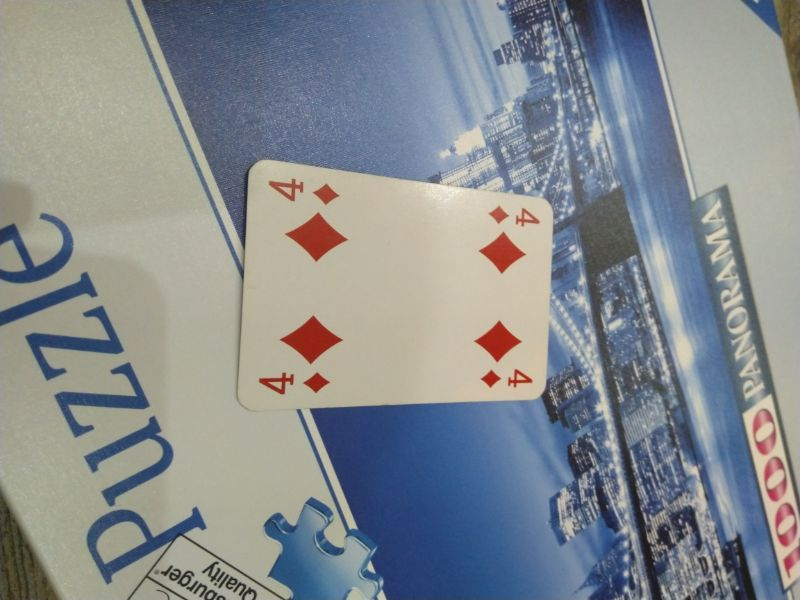4d: (264, 174, 343, 208), (257, 368, 334, 398), (482, 201, 543, 230), (476, 366, 536, 391)
